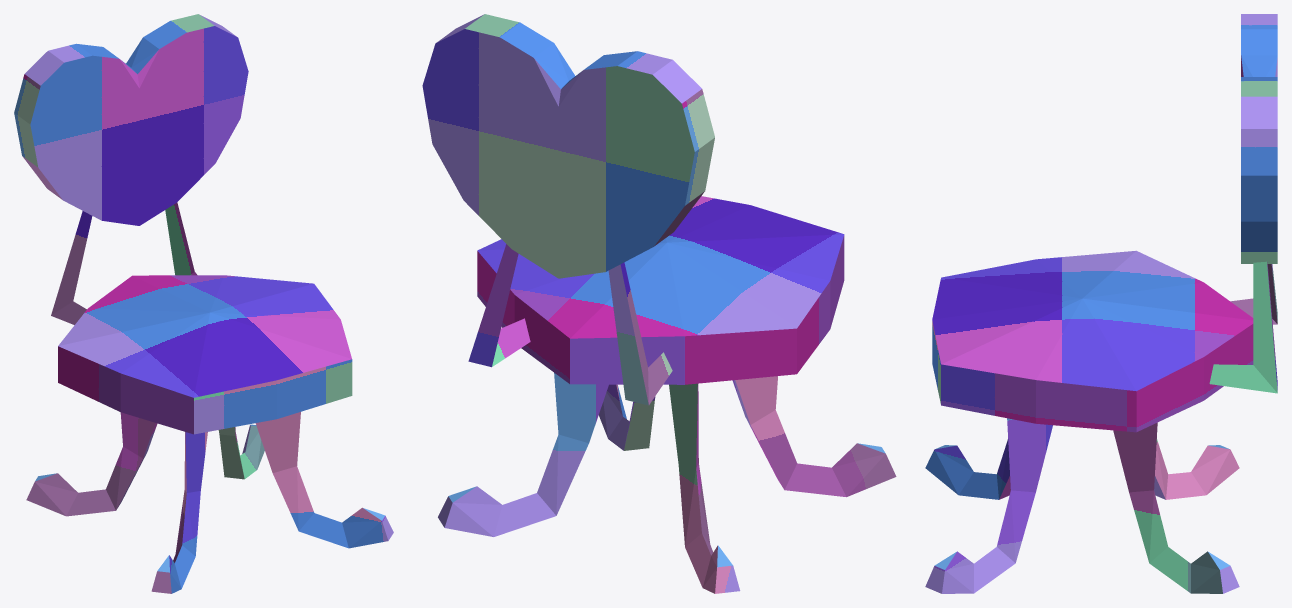
The model's file is rmk_lov_chairS_jwl.dae.
The picture shows the model from 3 angles, left to right: view 1: azimuth 30°, elevation 25°; view 2: azimuth 150°, elevation 25°; view 3: azimuth 270°, elevation 25°; orthographic projection. The views are drawn at different scales.
Parts seen in each view (by area): view 1: rmk_lov_chairS_jwl; view 2: rmk_lov_chairS_jwl; view 3: rmk_lov_chairS_jwl.
Boxes of the visible parts, left/top/right/bottom form: rmk_lov_chairS_jwl: left=14, top=14, right=393, bottom=593; rmk_lov_chairS_jwl: left=422, top=14, right=896, bottom=593; rmk_lov_chairS_jwl: left=925, top=14, right=1277, bottom=593.
Bounding box in the file's own units: 21.79 × 35.15 × 23.11.
Materials: 1 (1 with a texture image).
